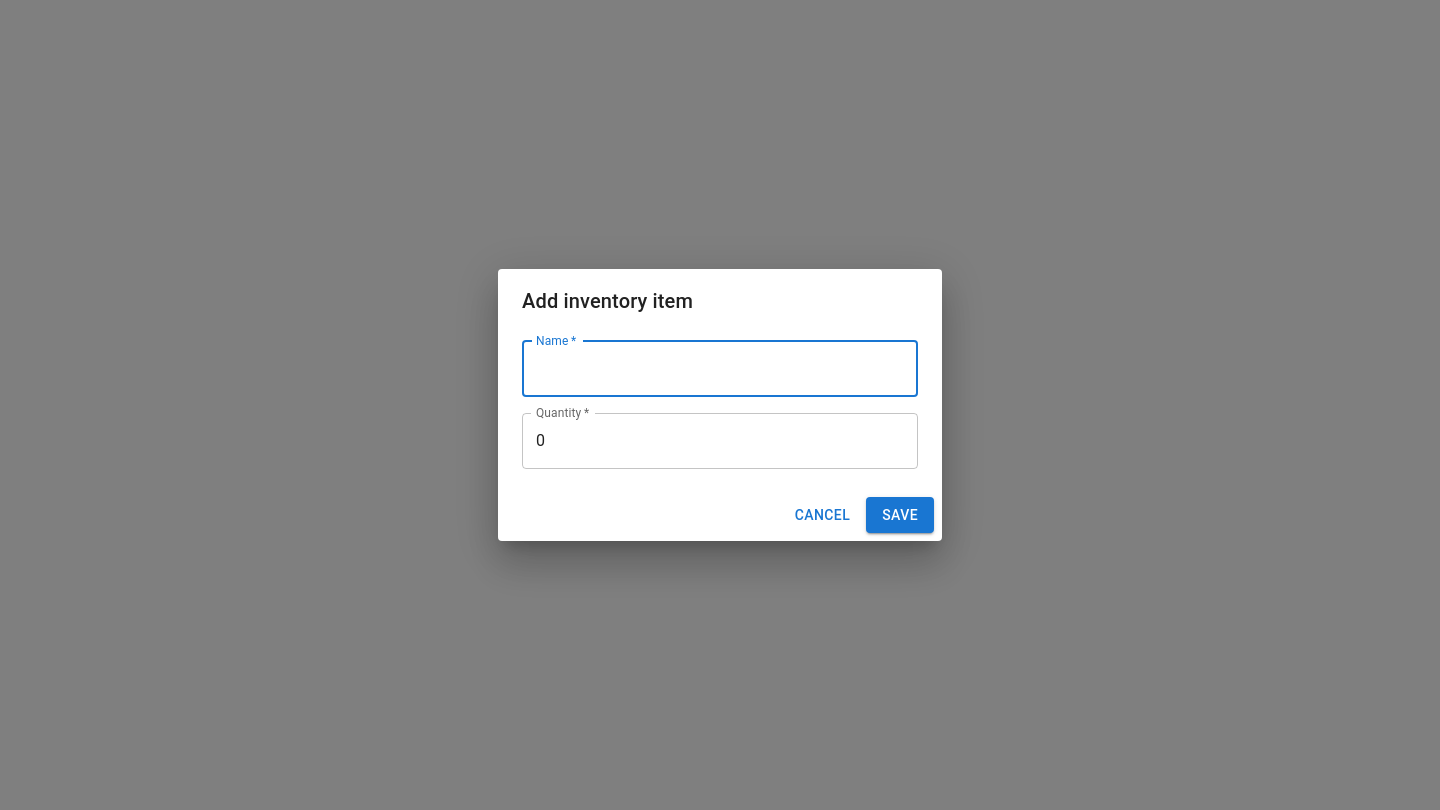
Test case: InventoryFormDialog › shows a validation message when the quantity is negative
Type "Sprocket" into the field labelled "Name *" at (720, 369), box left=522, top=341, right=918, bottom=397
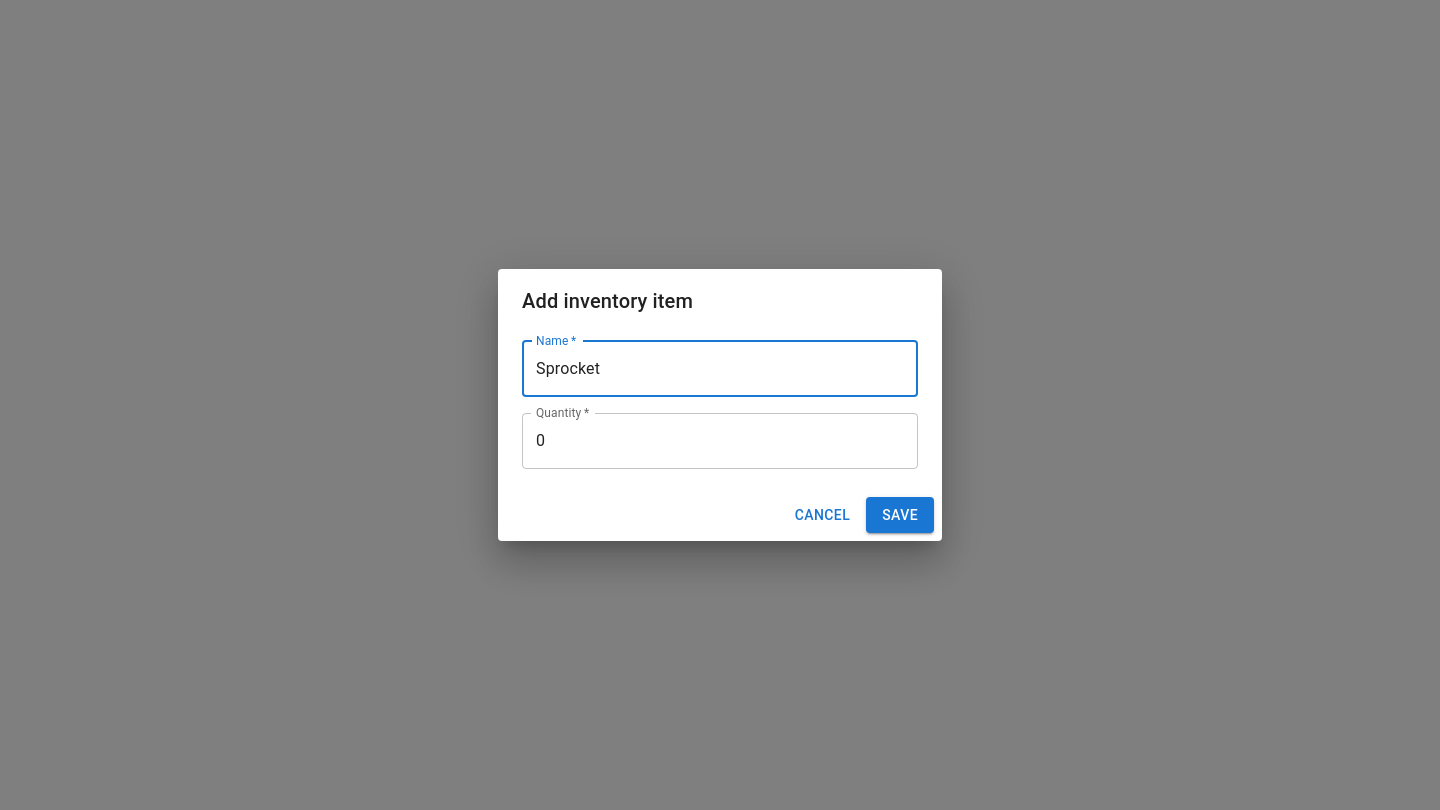
Replace the text in the number field labelled "Quantity *" with "-1" at (720, 441), box left=522, top=413, right=918, bottom=469
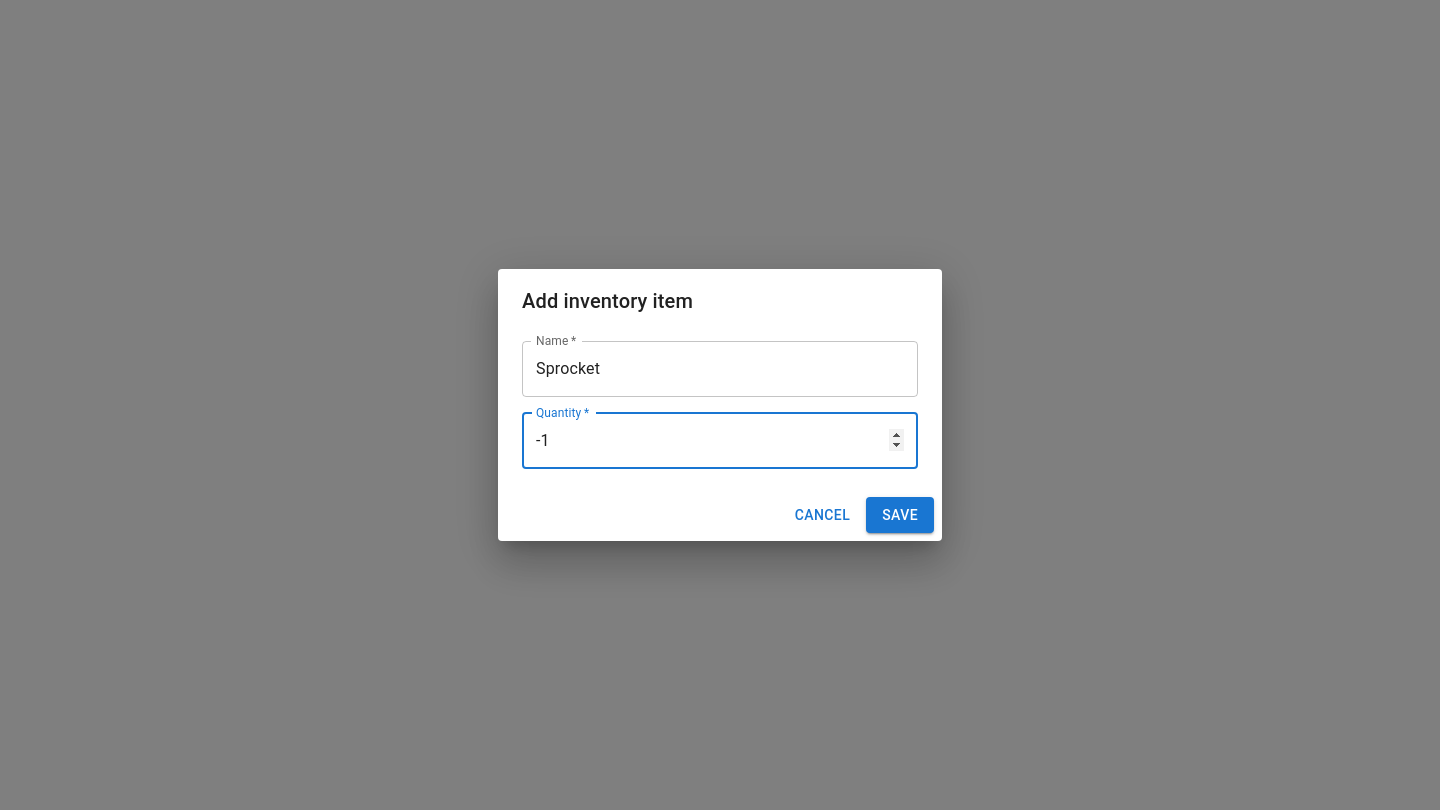
Click the button "Save" at (900, 515), box left=866, top=497, right=934, bottom=533
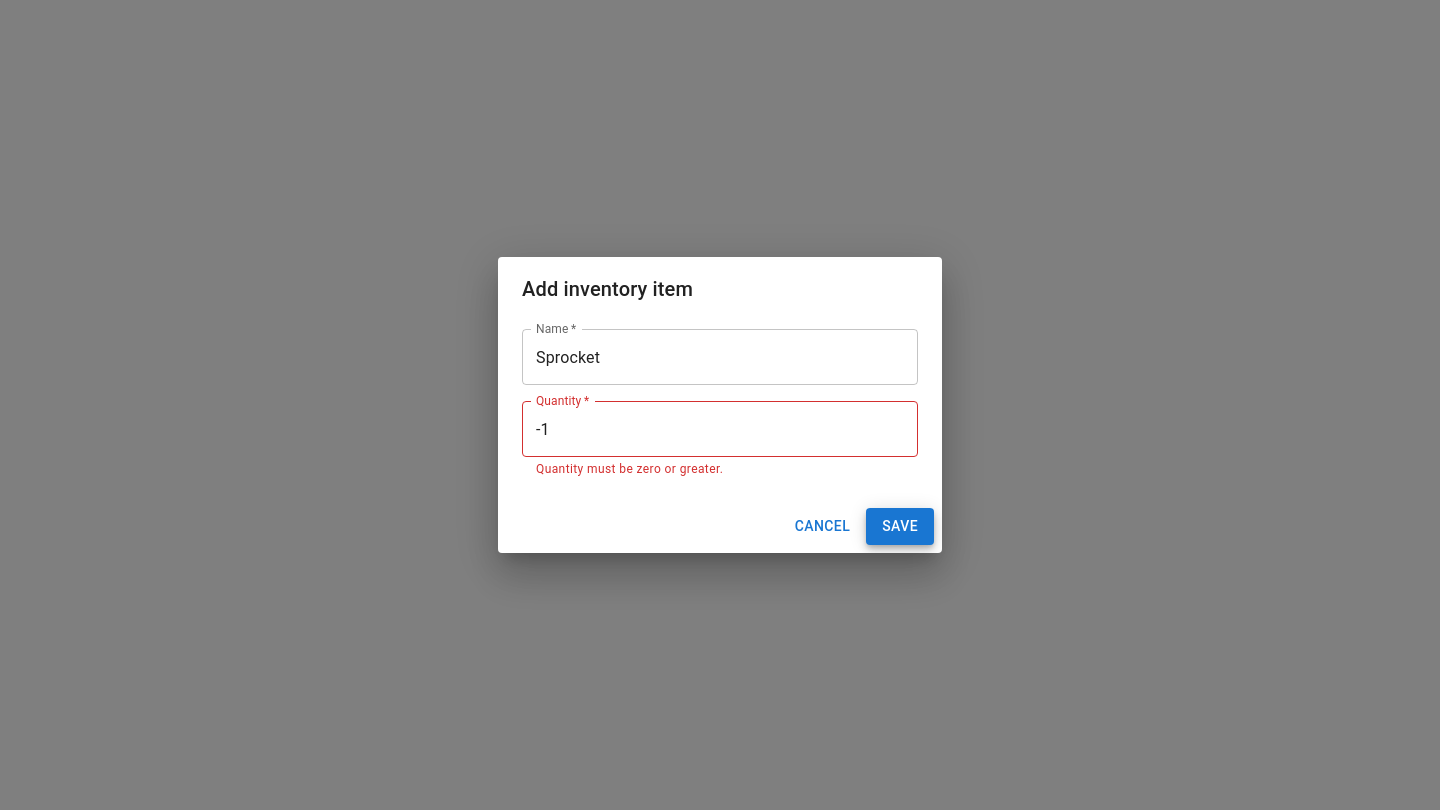
Check: the text "Quantity must be zero or greater." is shown, box left=536, top=462, right=723, bottom=476
